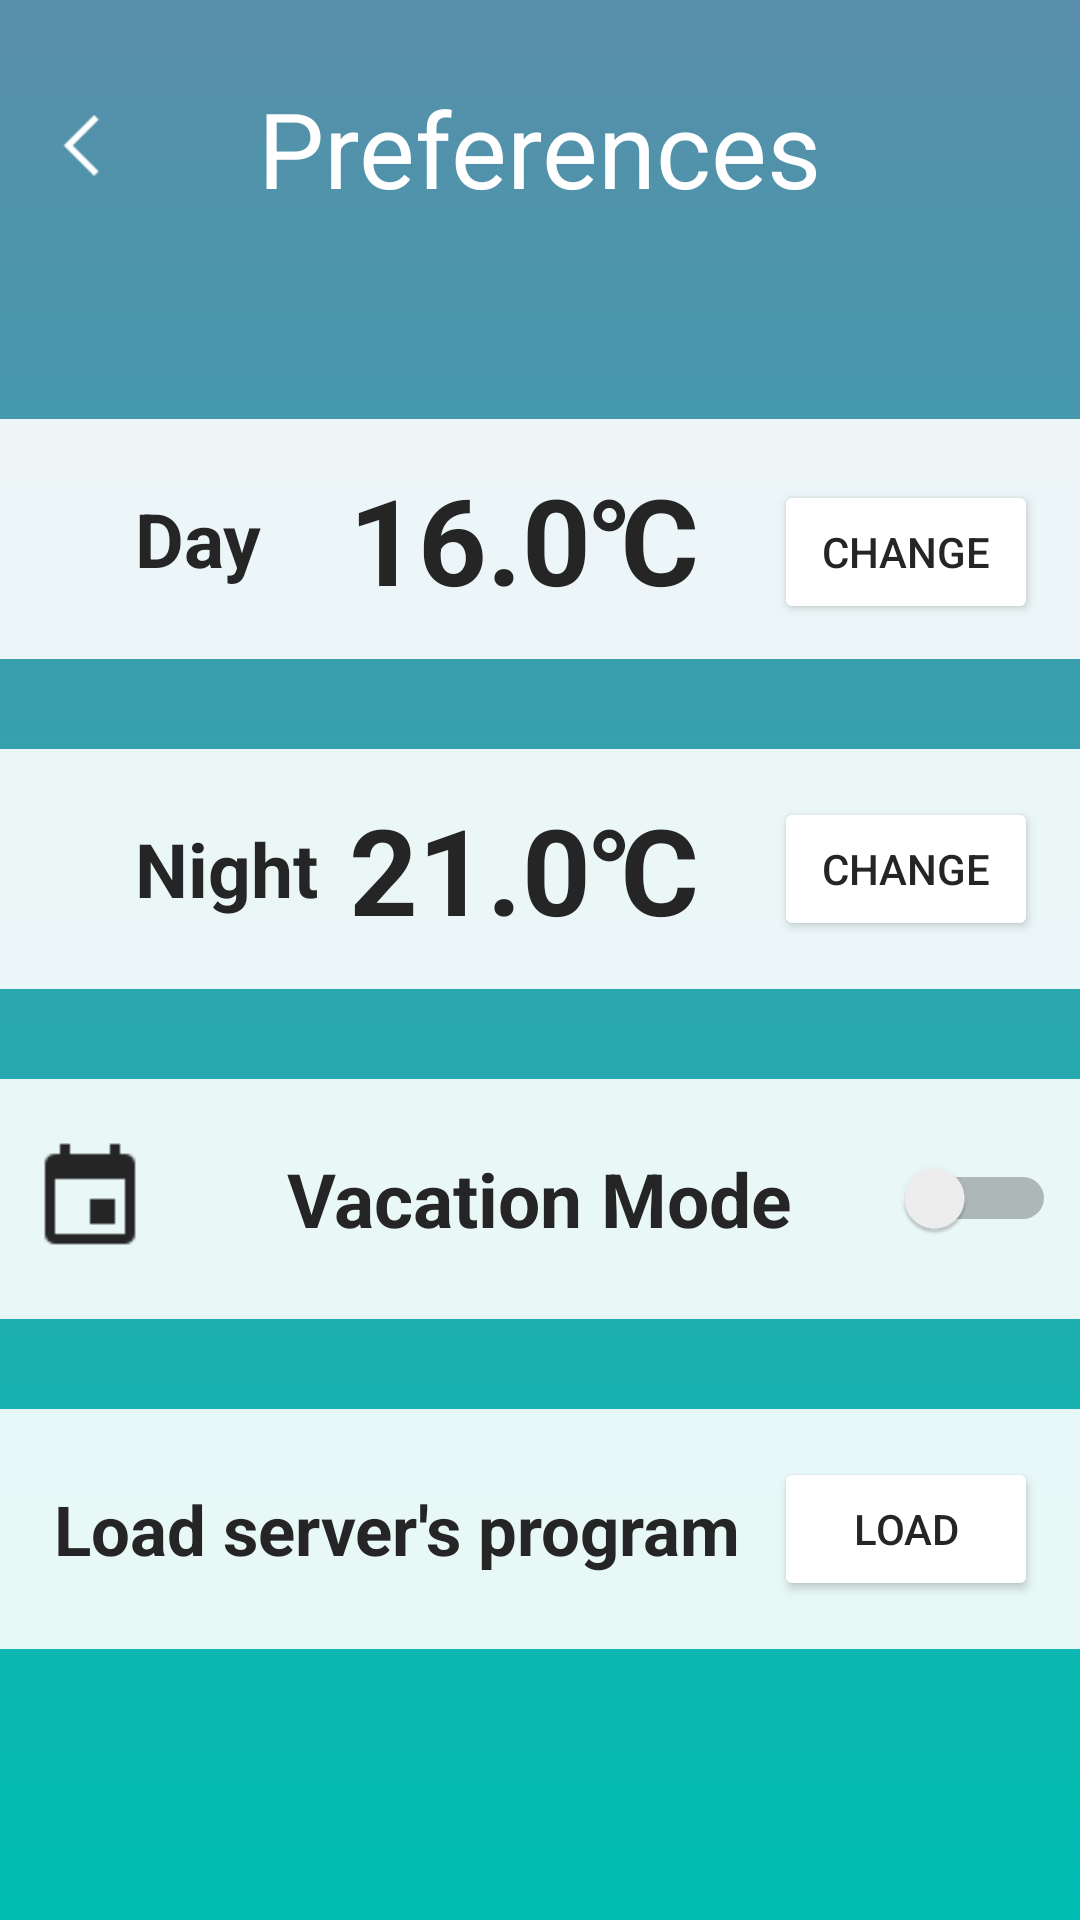

Where to tap for icons on this 1080w x 1920h app screen, as (x=x, y=y):
calendar: (x=90, y=1194)
